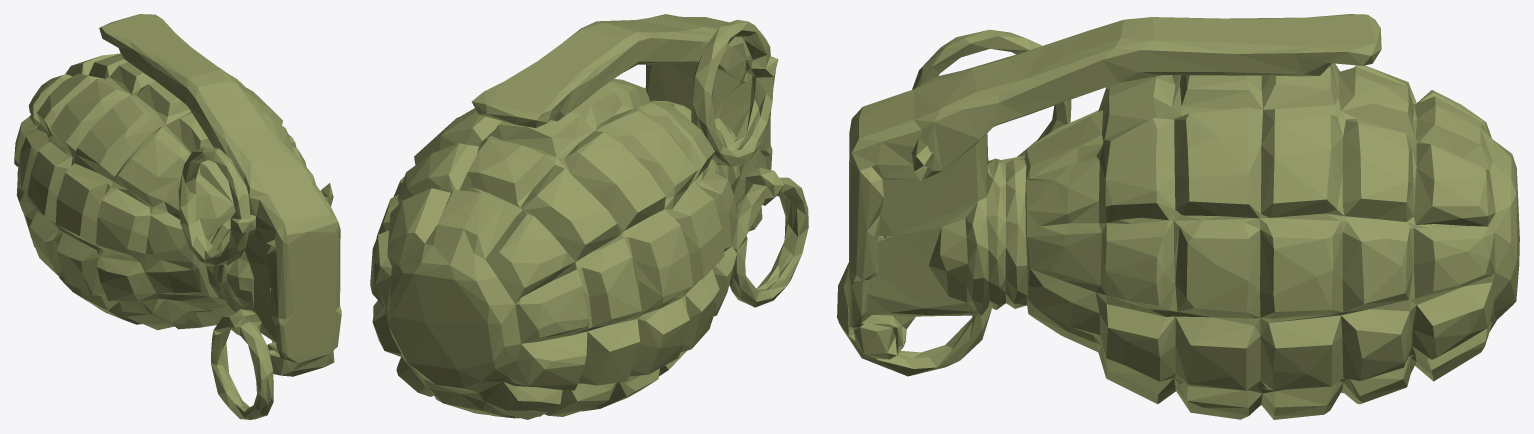
The model's file is fragmentation-grenade.glb.
3 views of the same model, side by side, from view 1: azimuth 30°, elevation 25°; view 2: azimuth 150°, elevation 25°; view 3: azimuth 270°, elevation 25° (orthographic). The views are drawn at different scales.
Parts seen in each view (by area): view 1: world; view 2: world; view 3: world.
Boxes of the visible parts, left/top/right/bottom form: world: left=14, top=14, right=341, bottom=419; world: left=370, top=14, right=808, bottom=419; world: left=837, top=14, right=1519, bottom=419.
Bounding box in the file's own units: 0.0664 × 0.0731 × 0.12.
